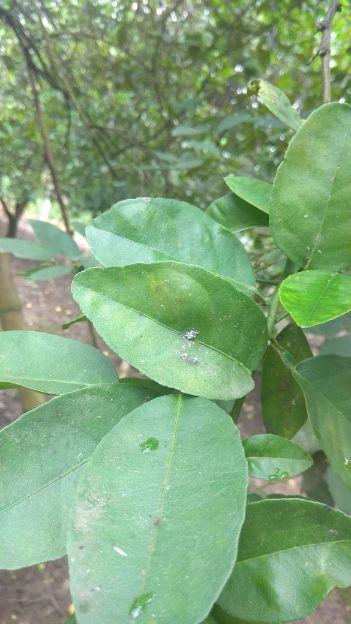Myzus persicae: (184, 330, 199, 340), (180, 352, 189, 360)
